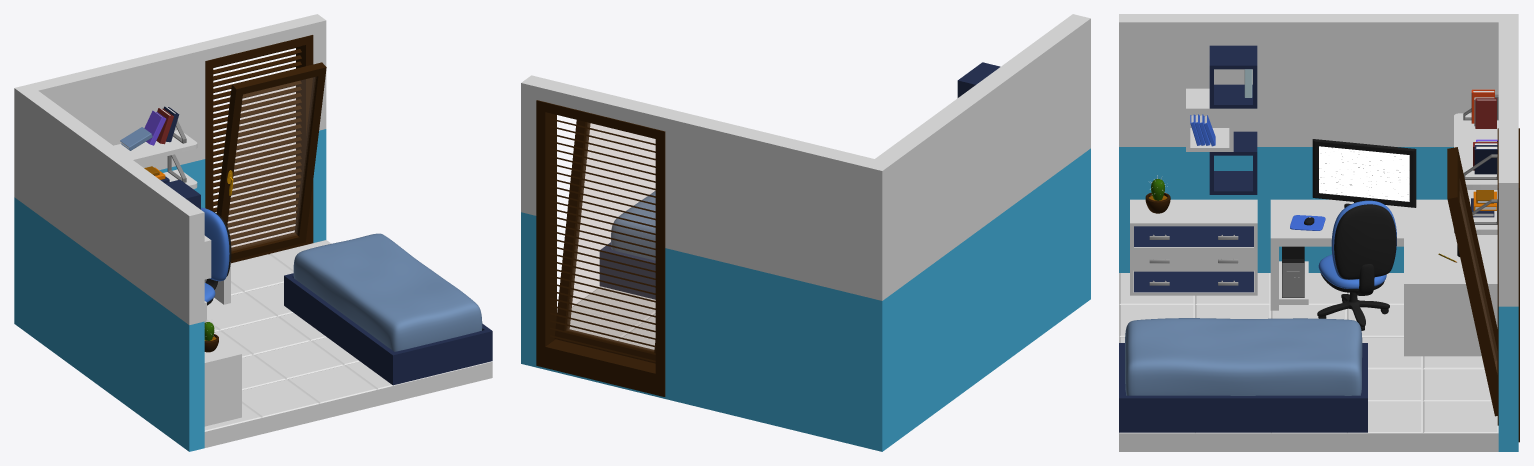
Rendered from isometric_bedroom.glb.
The picture shows the model from 3 angles, left to right: view 1: azimuth 30°, elevation 25°; view 2: azimuth 150°, elevation 25°; view 3: azimuth 270°, elevation 25°; orthographic projection. The views are drawn at different scales.
Visible parts, largest first — view 1: Cube.002, Cube, Cube.020, Cube.022, Cube.021, Cube.010, Cube.003, Cube.019, Cube.014, Cube.052, Cube.042, Cube.028 (+1 smaller); view 2: Cube.002, Cube.022, Cube.019, Cube.021, Cube.003, Cube, Cube.010, Cube.020, Cube.001; view 3: Cube.002, Cube, Cube.020, Cube.024, Cube.014, Cube.010, Cube.052, Cube.001, Cube.003, Cube.023, Cube.042, Cube.013 (+7 smaller).
Part boxes in pixels (x1,y1,x2,y2): Cube.002: [14, 14, 326, 451]; Cube: [204, 240, 492, 447]; Cube.020: [293, 233, 482, 351]; Cube.022: [227, 77, 315, 250]; Cube.021: [213, 46, 301, 245]; Cube.010: [284, 273, 492, 385]; Cube.003: [216, 62, 326, 260]; Cube.019: [205, 35, 313, 263]; Cube.014: [204, 337, 241, 426]; Cube.052: [201, 207, 231, 305]; Cube.042: [120, 106, 179, 183]; Cube.028: [113, 130, 197, 163]; Cube.002: [521, 14, 1090, 451]; Cube.022: [567, 123, 655, 350]; Cube.019: [536, 100, 665, 396]; Cube.021: [550, 118, 655, 362]; Cube.003: [554, 120, 655, 363]; Cube: [569, 286, 655, 349]; Cube.010: [599, 242, 655, 299]; Cube.020: [611, 191, 655, 260]; Cube.001: [957, 62, 1000, 97]; Cube.002: [1119, 14, 1518, 451]; Cube: [1119, 273, 1498, 451]; Cube.020: [1125, 318, 1362, 395]; Cube.024: [1270, 199, 1497, 356]; Cube.014: [1130, 199, 1257, 295]; Cube.010: [1119, 343, 1367, 432]; Cube.052: [1317, 200, 1396, 326]; Cube.001: [1186, 45, 1257, 194]; Cube.003: [1447, 147, 1497, 416]; Cube.023: [1319, 146, 1409, 201]; Cube.042: [1190, 69, 1497, 217]; Cube.013: [1312, 139, 1416, 207].
Bounding box in the file's own units: 200 × 149 × 201.
